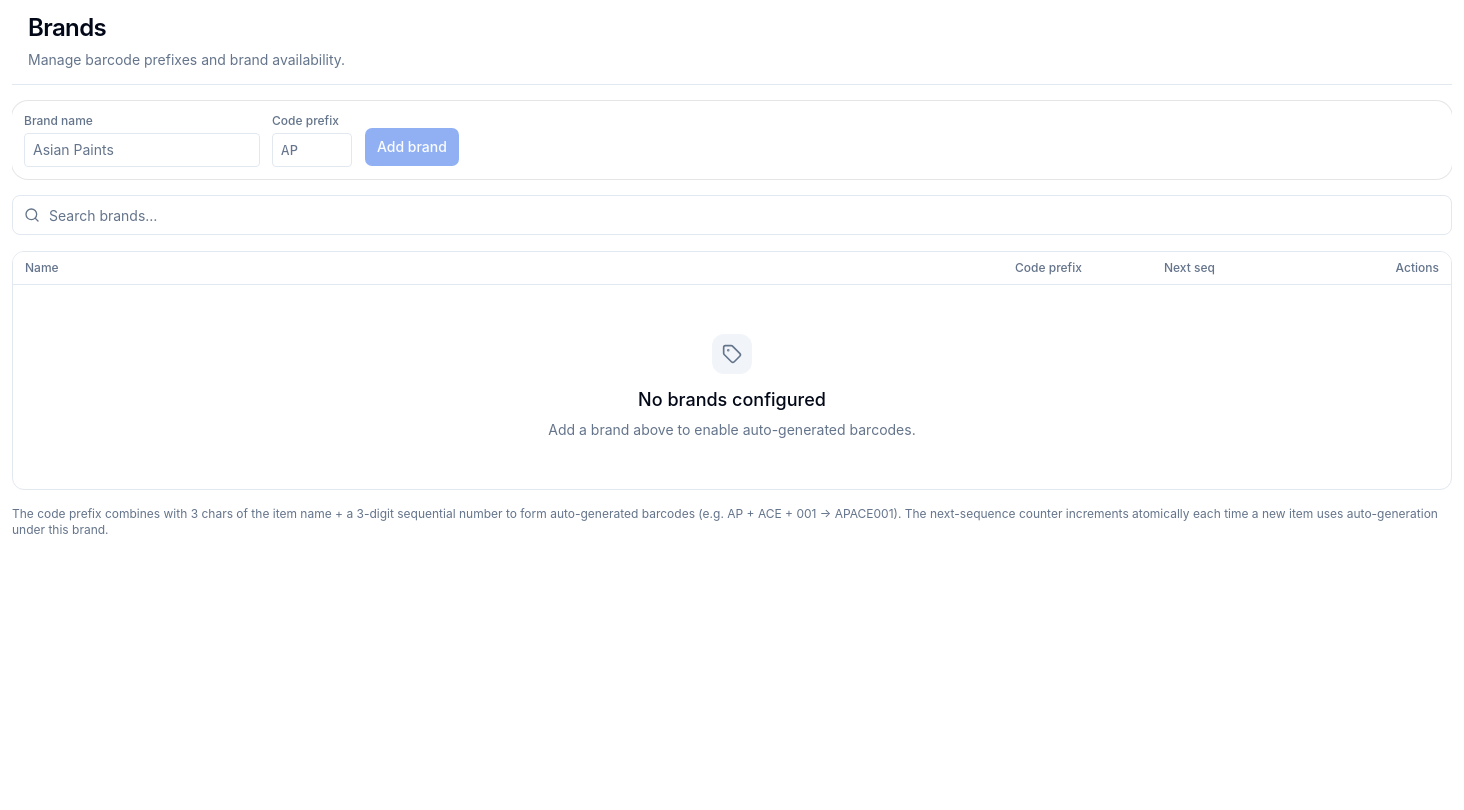
Test case: Validation edge cases › brand prefix rejects special characters
Type "Test Brand" into the field labelled "Brand name".
click(142, 150); type("Test Brand")  # box [24,133,260,167]
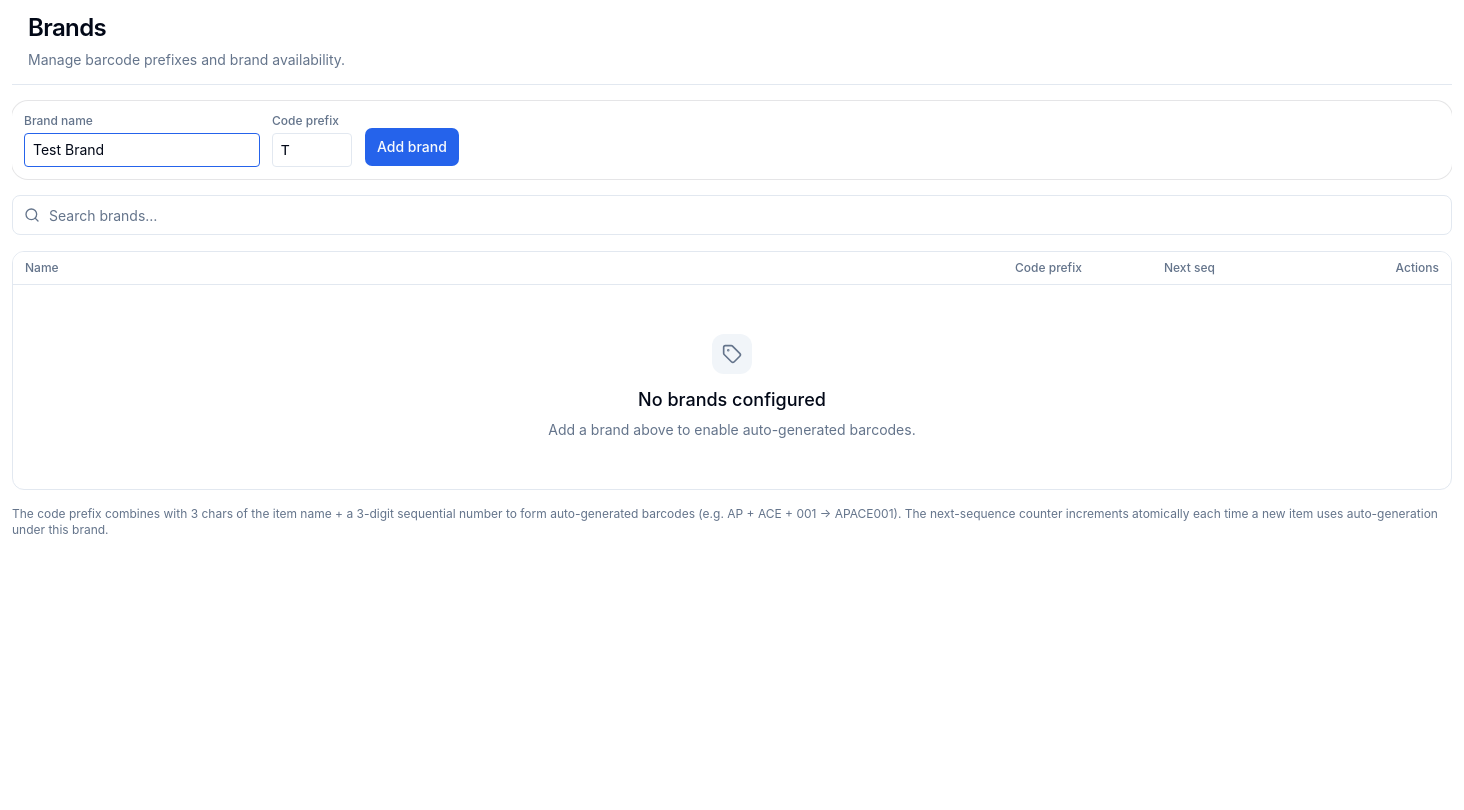
Type "A@#" into the field labelled "Code prefix".
click(312, 150); type("A@#")  # box [272,133,352,167]
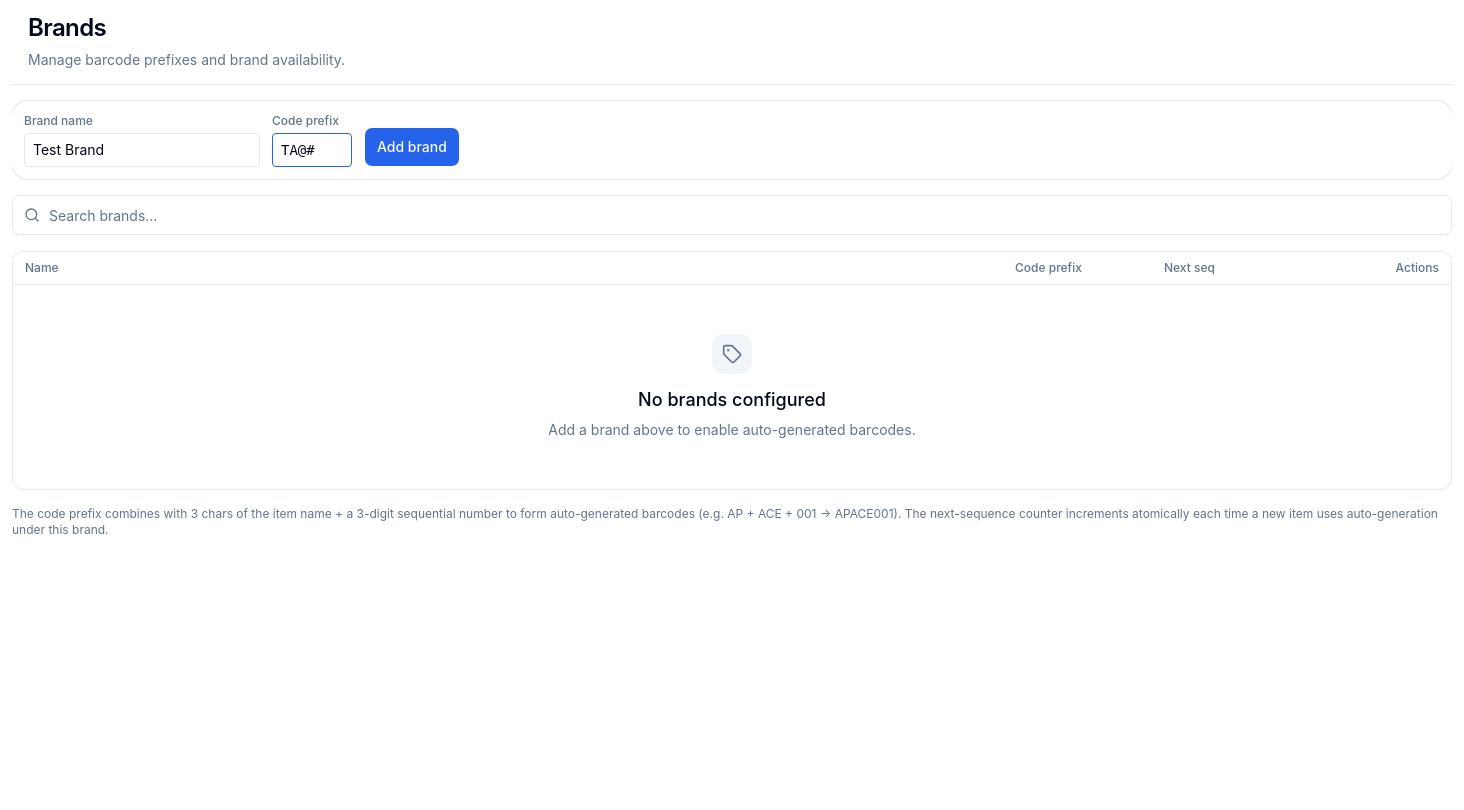
Click the button "Add brand".
click(412, 147)  # box [364,127,460,167]
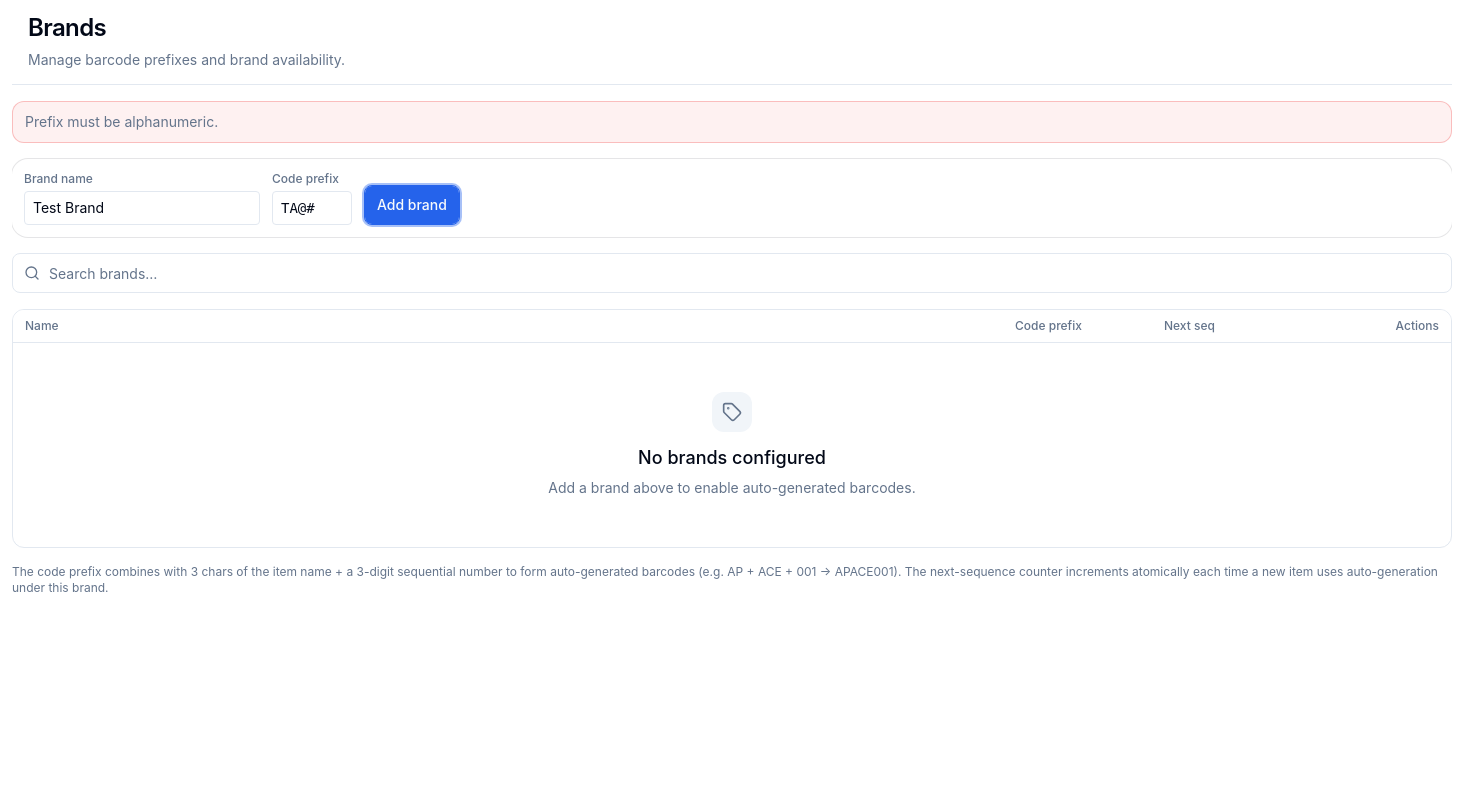
Expected: the text "Prefix must be alphanumeric." is shown, [25,113,218,130]
